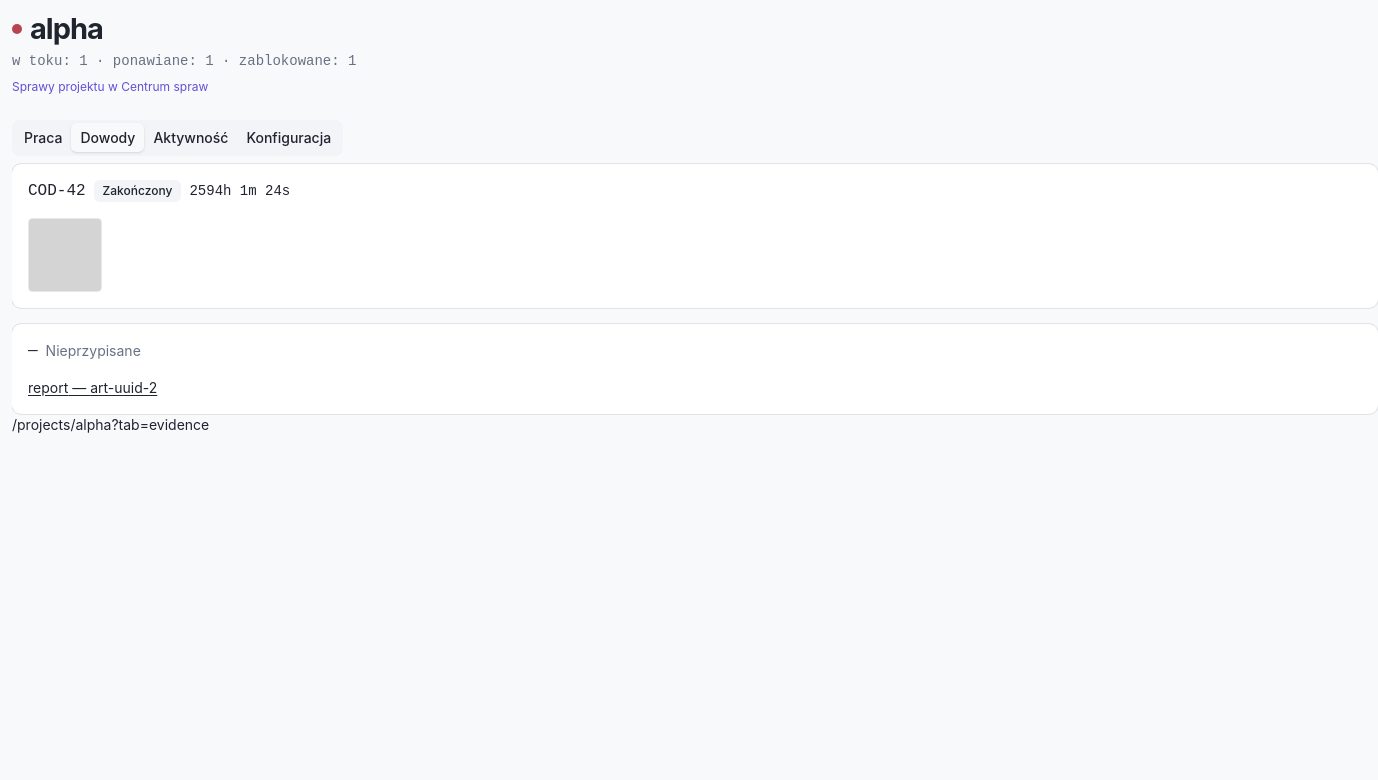
ProjectWorkspacePage › clicking Work tab clears the tab param from the URL
This screenshot has width=1378, height=780.
Expected: the heading "alpha" is shown, [30,12,103,47]
# Click Work tab
Click the tab "Praca" at coordinates (43, 138), box [15,123,72,152]
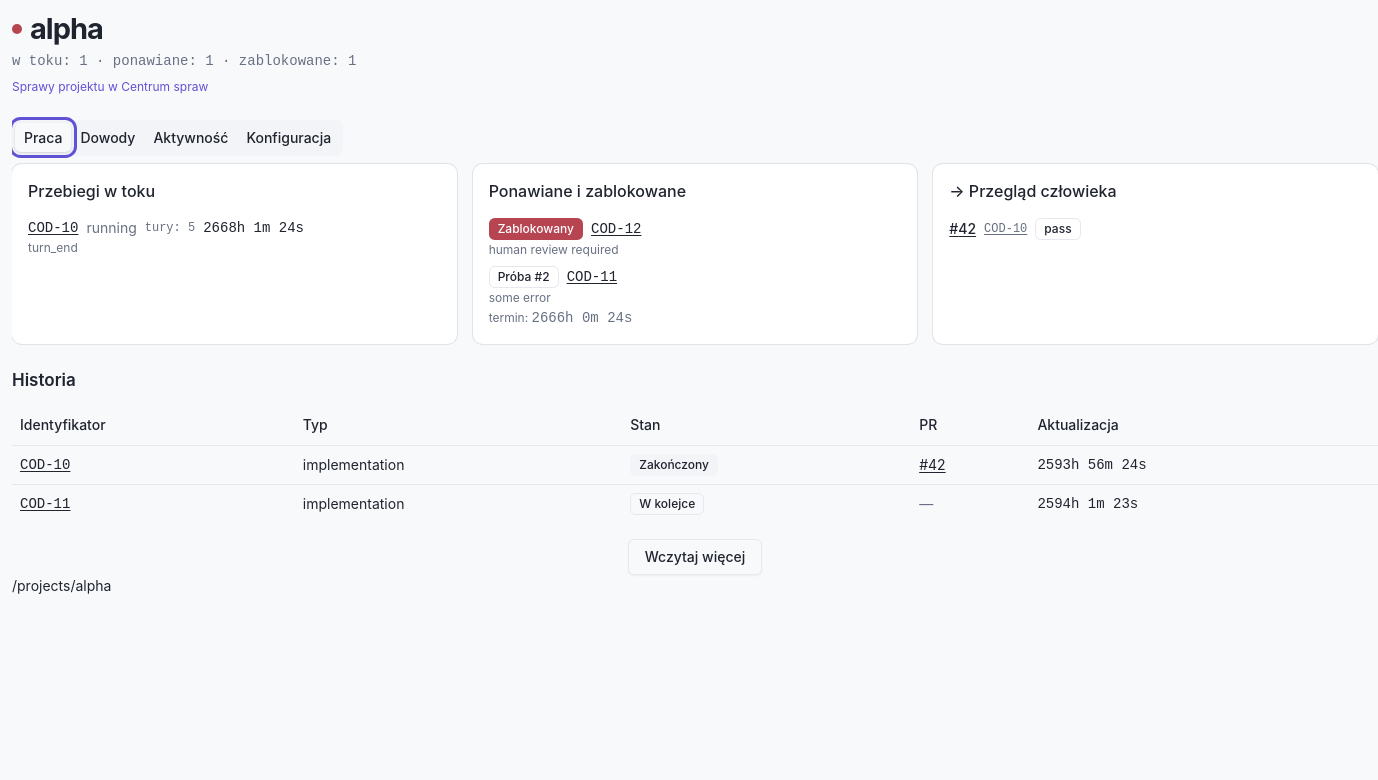
Result: the text with test id "location" no longer shows "tab="
Result: the text "Przebiegi w toku" is shown at [28,181,155,201]
